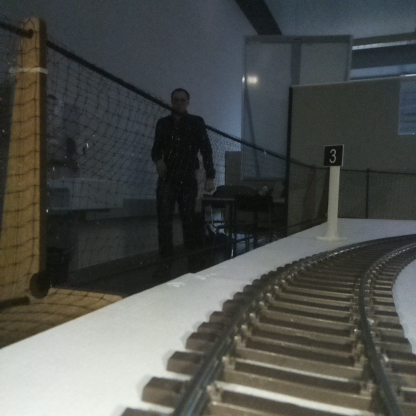black-info-3: (324, 145, 342, 238)
